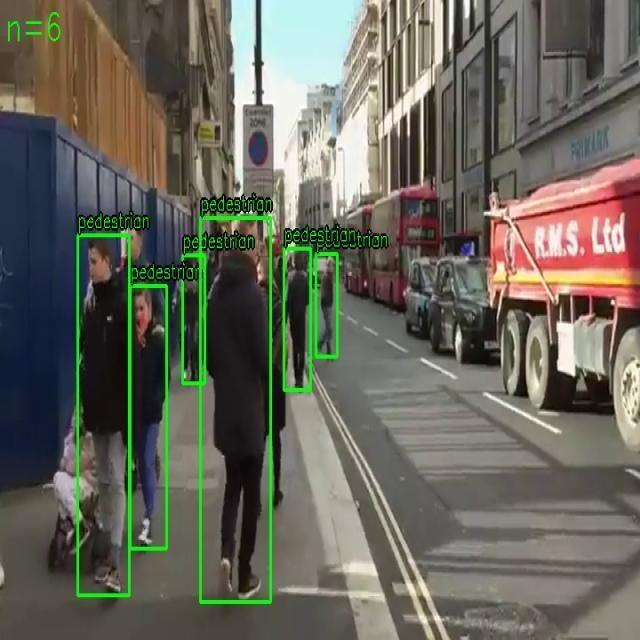person: (200, 217, 271, 603), (77, 234, 130, 596), (130, 286, 168, 550), (284, 248, 312, 391), (182, 254, 205, 384), (316, 254, 338, 358)
